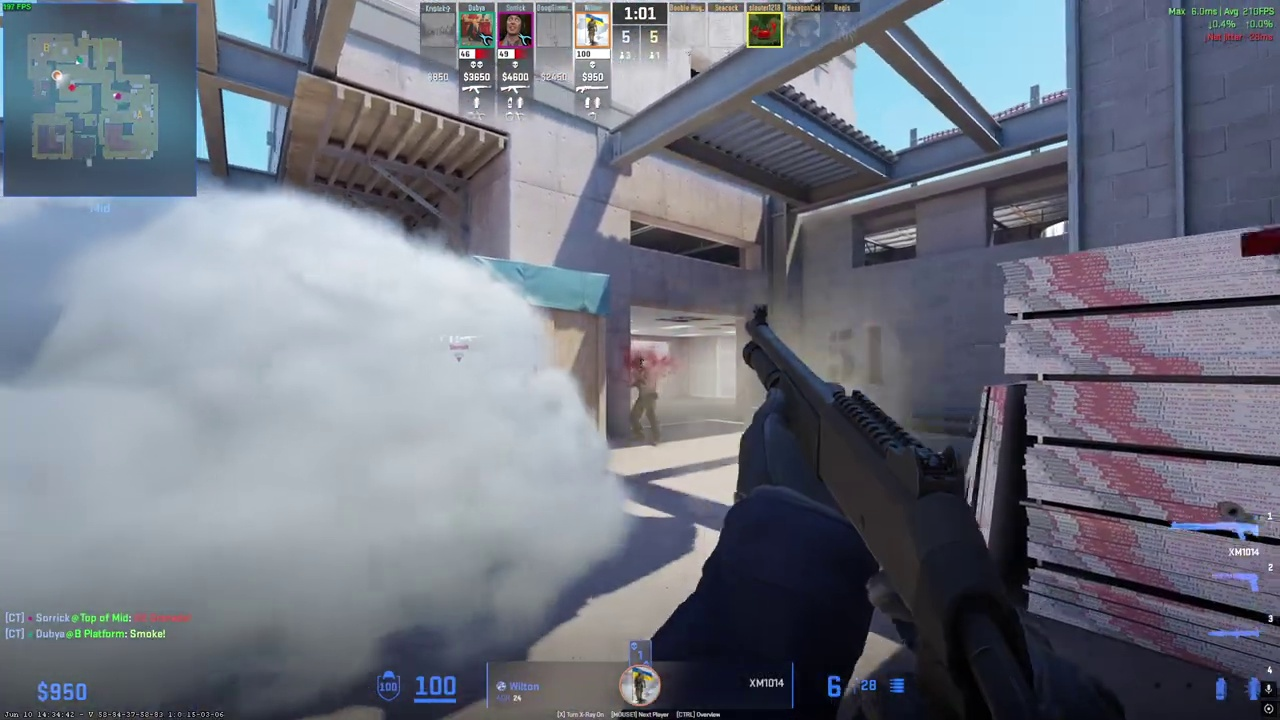Terrorist: (626, 357, 661, 444)
